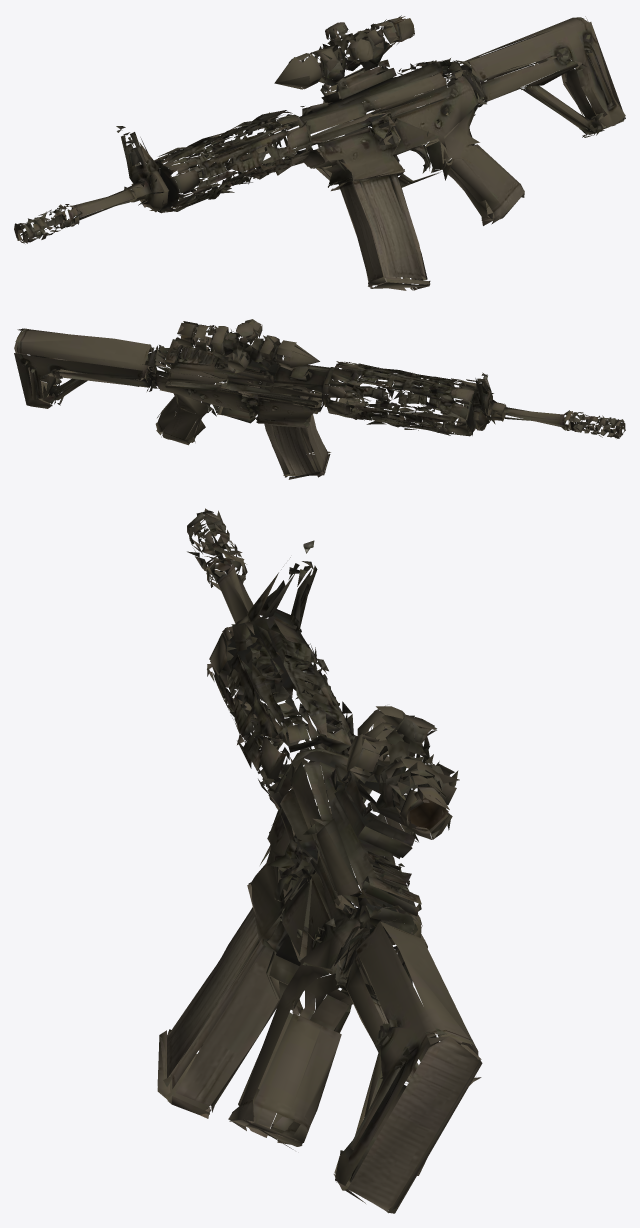
File: mer_assault_rifle_LOD2.glb
The picture shows the model from 3 angles, top to bottom: view 1: azimuth 30°, elevation 25°; view 2: azimuth 150°, elevation 25°; view 3: azimuth 270°, elevation 25°; orthographic projection. The views are drawn at different scales.
Visible parts, largest first — view 1: tripo_node_cba70034-4cd7-456c-9bc8-af55f574e1a5; view 2: tripo_node_cba70034-4cd7-456c-9bc8-af55f574e1a5; view 3: tripo_node_cba70034-4cd7-456c-9bc8-af55f574e1a5.
Boxes of the visible parts, left/top/right/bottom form: tripo_node_cba70034-4cd7-456c-9bc8-af55f574e1a5: left=14, top=15, right=625, bottom=290; tripo_node_cba70034-4cd7-456c-9bc8-af55f574e1a5: left=14, top=319, right=625, bottom=479; tripo_node_cba70034-4cd7-456c-9bc8-af55f574e1a5: left=157, top=508, right=482, bottom=1213.
Bounding box in the file's own units: 0.9989 × 0.3348 × 0.2531.
1 material, 1 textured.
